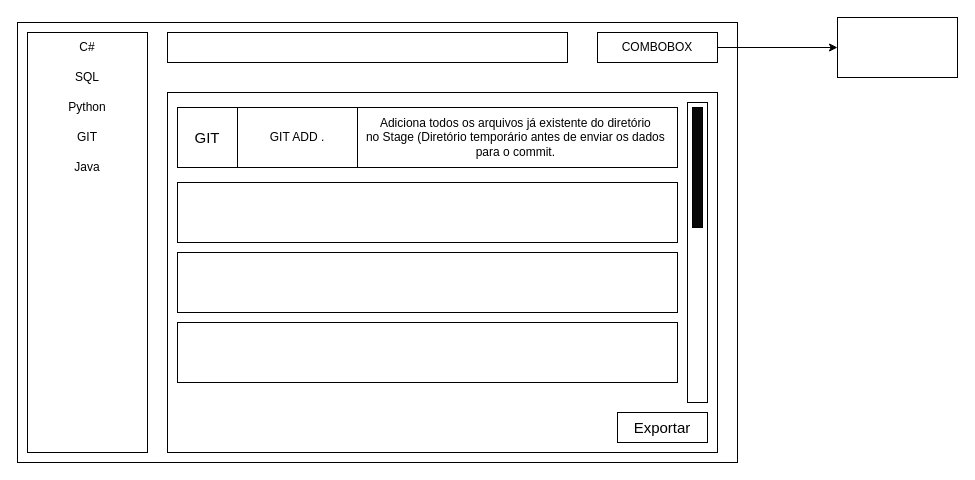
This 975x480 diagram has some shape labels left out. Each missing label, with the box of its shape:
COMBOBOX COM ALTERACAO DE PESQUISA: (836, 16, 958, 78)
PESQUISA DE ACORDO COM O FILTRO: (166, 32, 568, 62)
